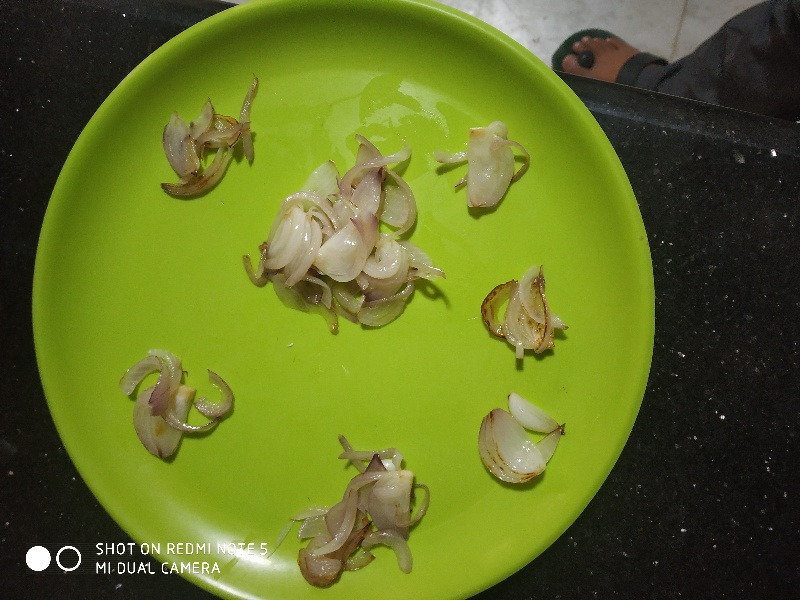onion_fried: (159, 91, 255, 204), (477, 264, 562, 363)
onion_golden: (285, 441, 426, 589), (471, 397, 567, 494)
